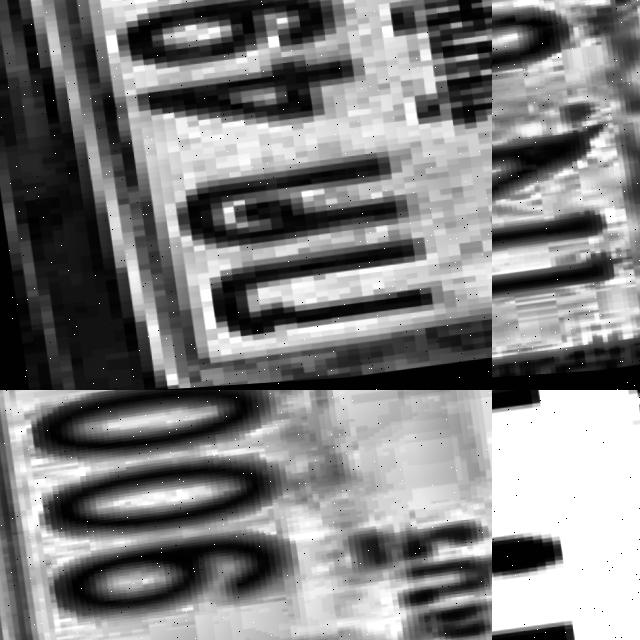license-plate: (0, 0, 492, 390), (0, 390, 492, 640), (492, 0, 640, 390), (492, 390, 640, 640)
